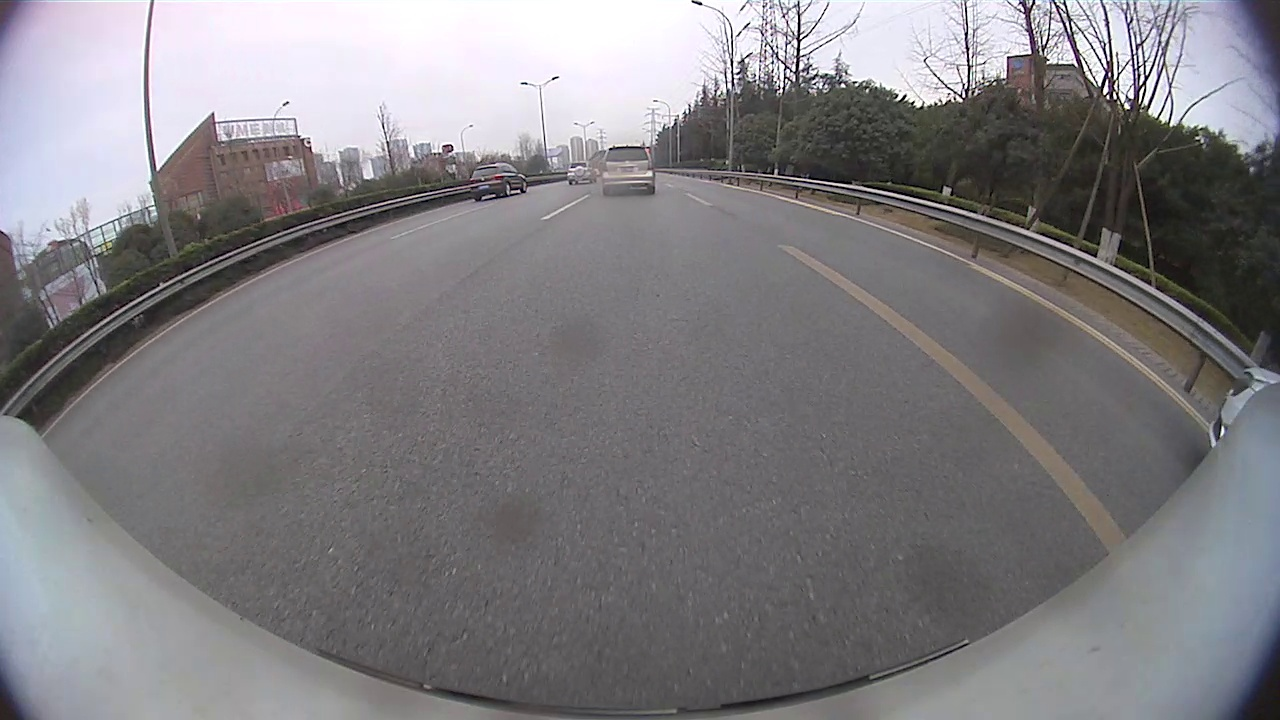car: (600, 147, 655, 197), (468, 163, 527, 201), (567, 160, 598, 186)
front: (522, 181, 527, 193)
rear: (504, 184, 513, 198)
